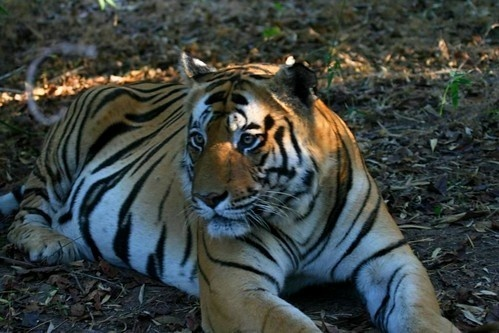tigre: (4, 48, 466, 333)
